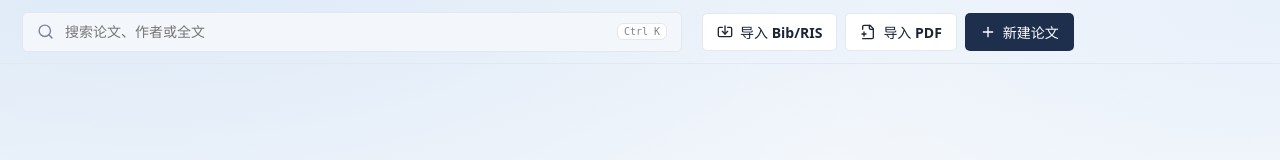
Test: imports › shows a PDF import error and refreshes the library
The image size is (1280, 160).
Click the button "导入 PDF". click: [901, 32]
box: x1=845 y1=12 x2=957 y2=50
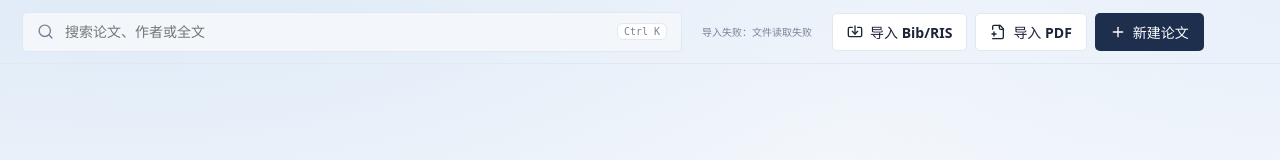
Now the text "导入失败：文件读取失败" is shown, box x1=702 y1=24 x2=812 y2=39
